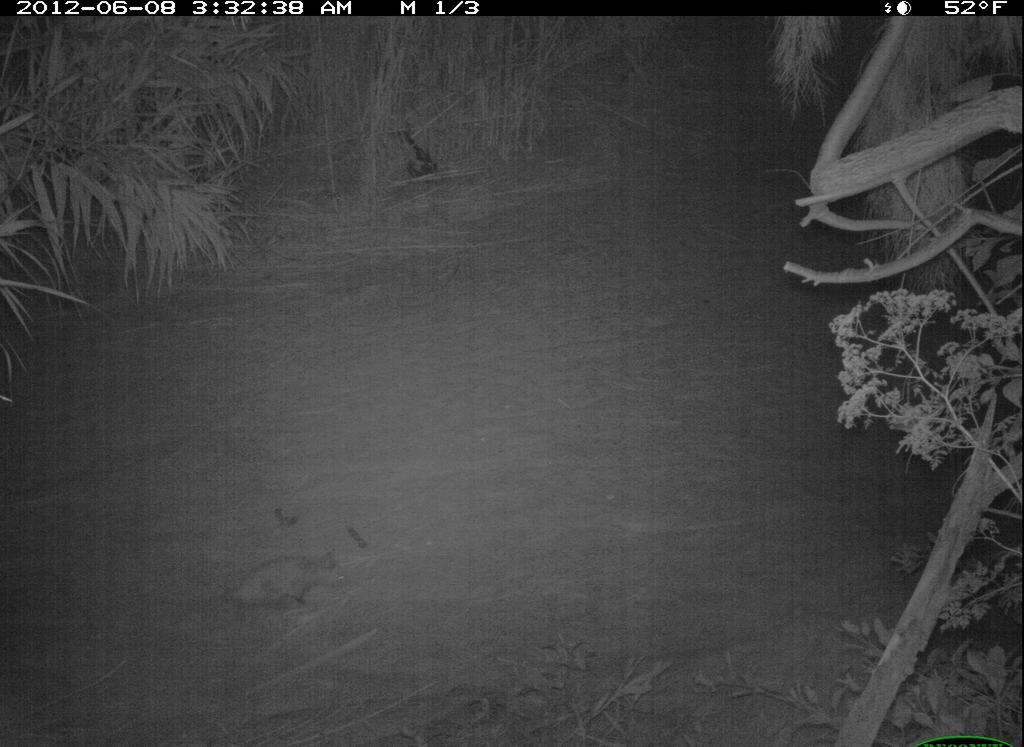opossum: (207, 546, 365, 626)
